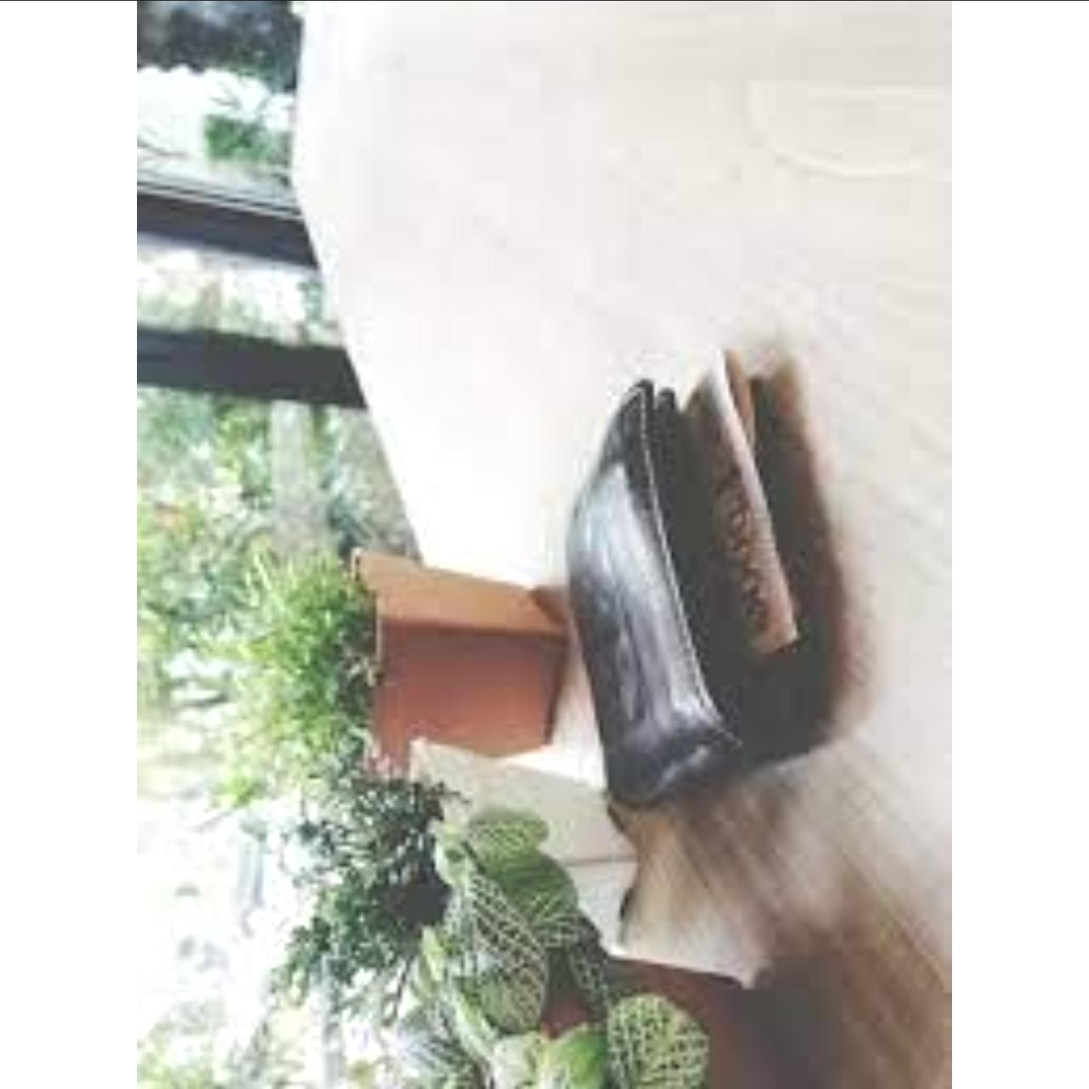wallet: (545, 128, 838, 826)
